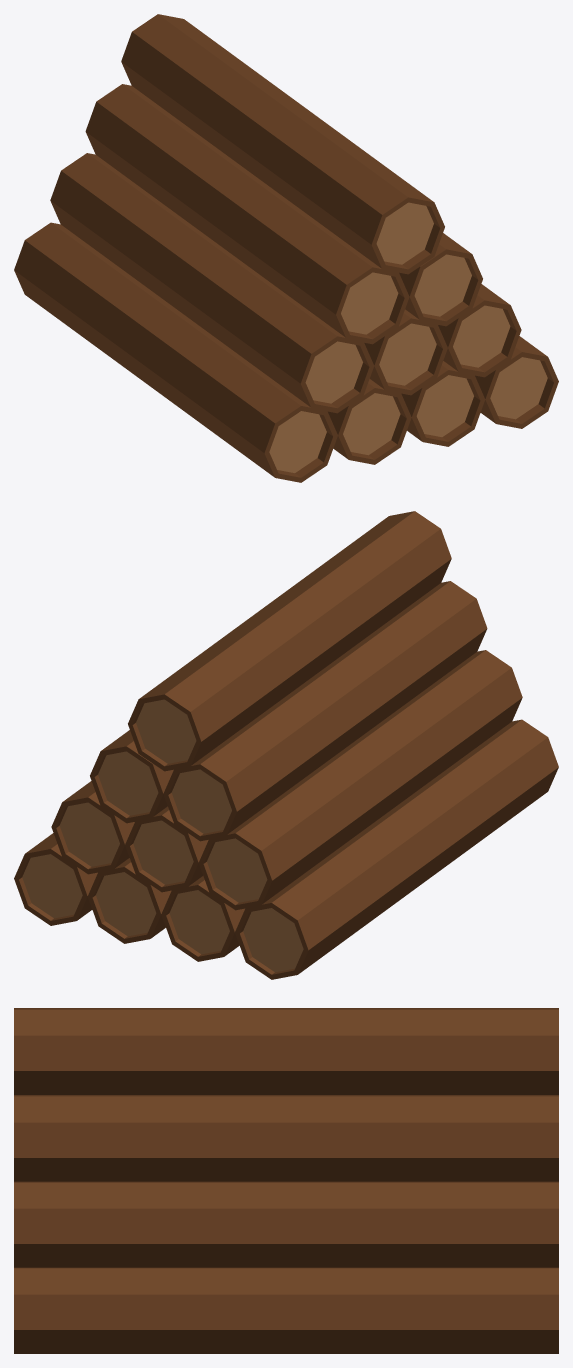
Rendered from Kutukler.fbx.
3 views of the same model, one above another, from view 1: azimuth 30°, elevation 25°; view 2: azimuth 150°, elevation 25°; view 3: azimuth 270°, elevation 25° (orthographic). The views are drawn at different scales.
Visible parts, largest first — view 1: Kutukler; view 2: Kutukler; view 3: Kutukler.
Part boxes in pixels (bbox=[...]): Kutukler: bbox=[14, 14, 558, 482]; Kutukler: bbox=[14, 511, 558, 979]; Kutukler: bbox=[14, 1008, 558, 1353].
Size of the model in its own units: 347 by 292 by 510.
